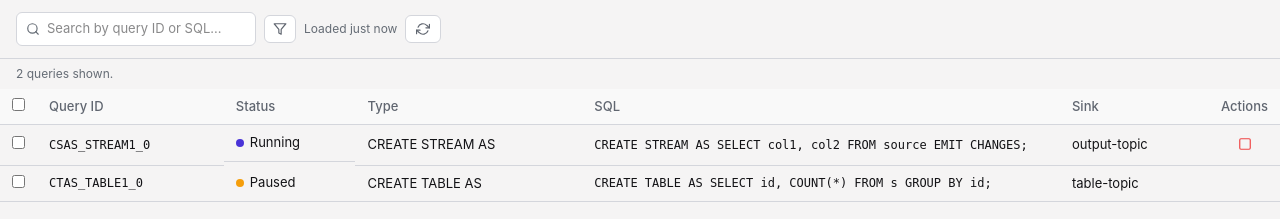
Scenario: [@ksql-queries-list] KsqlQueriesList › individual checkbox selection works
Click the checkbox named "Select CSAS_STREAM1_0".
click(18, 142)  # box [12, 136, 25, 149]
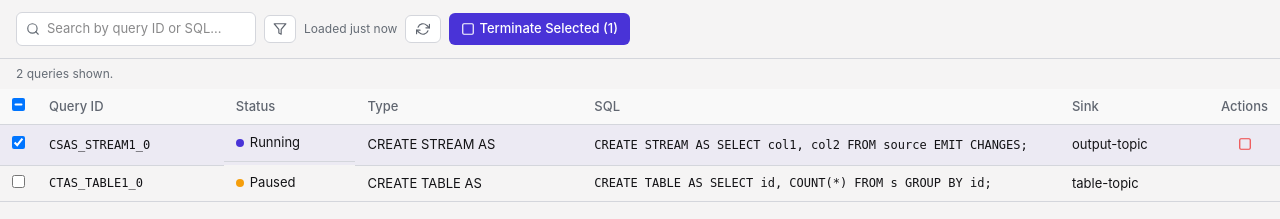
expect the button "Terminate Selected (1)" is shown: met, box [449, 13, 630, 44]
